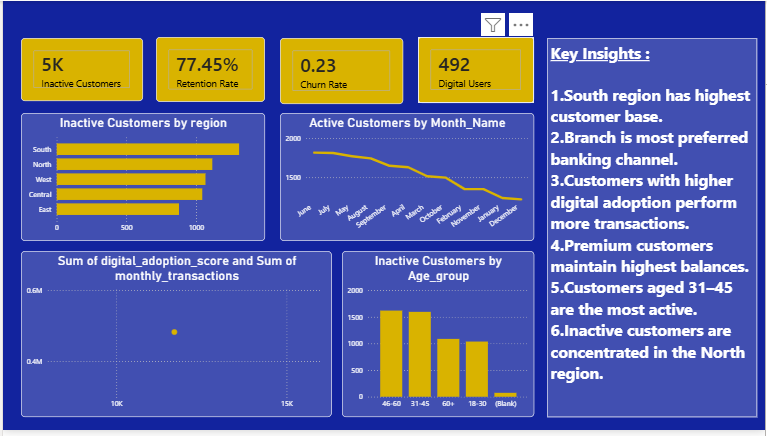

The dashboard page shown, as its layout file describes it:
{"tool":"powerbi","page":{"name":"Customer Retention & Insights","canvas":[1280,720],"ordinal":2},"visuals":[{"type":"cardVisual","fields":{"Data":["merged_retail_banking.Retention Rate"]},"box":[257,60.5,183.1,109.2],"z":0},{"type":"cardVisual","fields":{"Data":["merged_retail_banking.Churn Rate"]},"box":[465.3,62.2,206.6,110.9],"z":1000},{"type":"cardVisual","fields":{"Data":["merged_retail_banking.Inactive Customers"]},"box":[30.2,62.2,204.9,105.8],"z":2000},{"type":"cardVisual","fields":{"Data":["merged_retail_banking.Digital Users"]},"box":[697.1,60.5,194.9,110.9],"z":3000},{"type":"barChart","fields":{"Category":["merged_retail_banking.region"],"Y":["merged_retail_banking.Inactive Customers"]},"box":[30.2,188.1,409.9,215],"z":4000},{"type":"columnChart","fields":{"Category":["merged_retail_banking.Age_group"],"Y":["merged_retail_banking.Inactive Customers"]},"box":[569.4,419.9,322.5,278.8],"z":5000},{"type":"scatterChart","fields":{"X":["Sum(merged_retail_banking.digital_adoption_score)"],"Y":["Sum(merged_retail_banking.monthly_transactions)"]},"box":[30.2,419.9,522.4,278.8],"z":6000},{"type":"lineChart","fields":{"Category":["merged_retail_banking.Month_Name"],"Y":["merged_retail_banking.Active Customers"]},"box":[465.3,188.1,426.7,215],"z":7000},{"type":"textbox","box":[913.8,62.2,352.8,636.6],"z":8000},{"type":"textbox","box":[30.2,8.4,1236.3,40.3],"z":9000}]}

Visuals, with their boxes in screenshot pixels (x1, y1, x2, y2), scaled from the page's 1280x720 canvas onto the 767x436 screenshot:
cardVisual - merged_retail_banking.Retention Rate: left=154, top=37, right=264, bottom=103
cardVisual - merged_retail_banking.Churn Rate: left=279, top=38, right=403, bottom=105
cardVisual - merged_retail_banking.Inactive Customers: left=18, top=38, right=141, bottom=102
cardVisual - merged_retail_banking.Digital Users: left=418, top=37, right=535, bottom=104
barChart - merged_retail_banking.region x merged_retail_banking.Inactive Customers: left=18, top=114, right=264, bottom=244
columnChart - merged_retail_banking.Age_group x merged_retail_banking.Inactive Customers: left=341, top=254, right=534, bottom=423
scatterChart - Sum(merged_retail_banking.digital_adoption_score) x Sum(merged_retail_banking.monthly_transactions): left=18, top=254, right=331, bottom=423
lineChart - merged_retail_banking.Month_Name x merged_retail_banking.Active Customers: left=279, top=114, right=535, bottom=244
textbox: left=548, top=38, right=759, bottom=423
textbox: left=18, top=5, right=759, bottom=29
